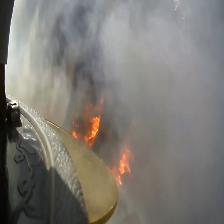fire: (57, 86, 146, 199)
smoke: (0, 0, 224, 106)
